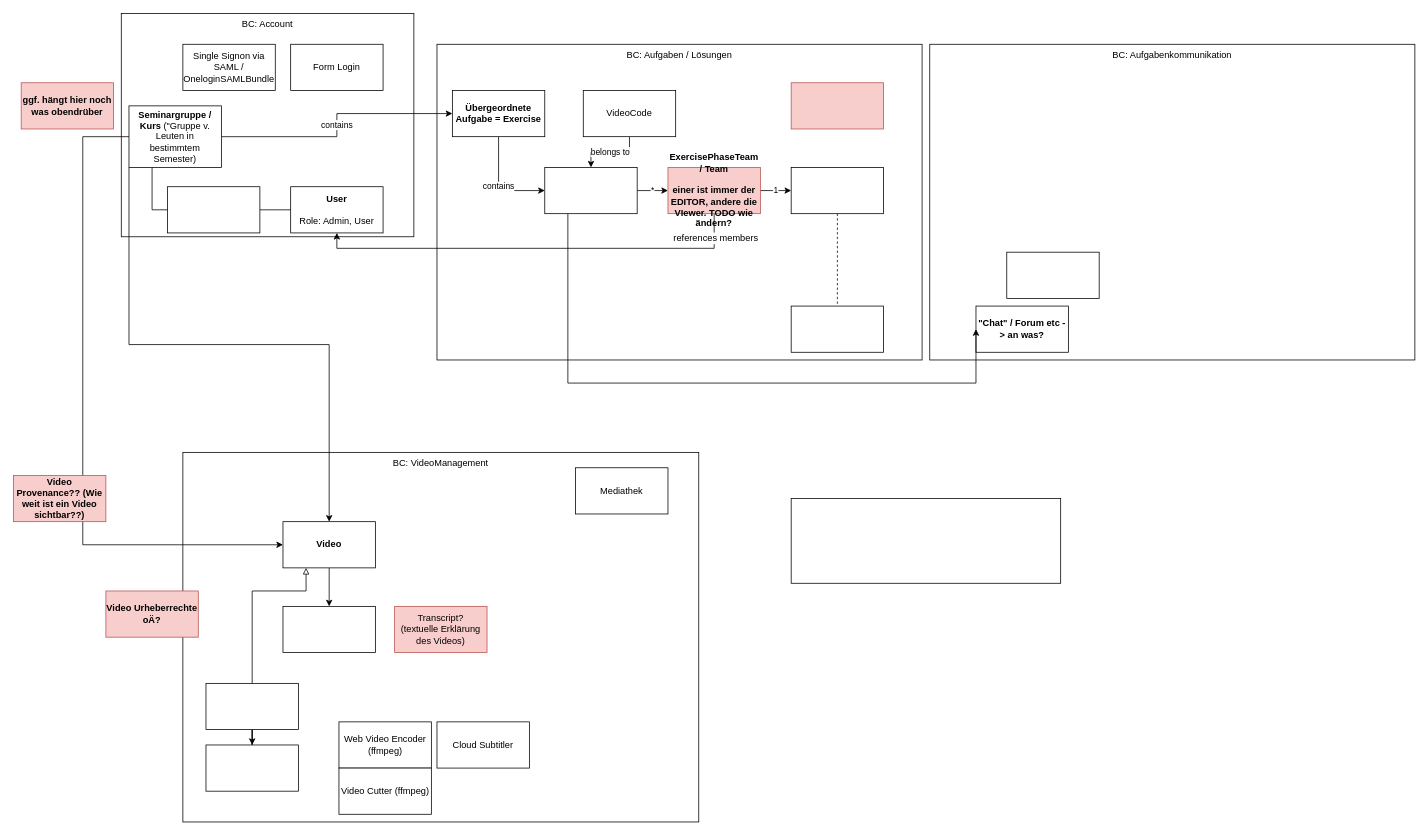
Some shapes in this 1428 by 835 pixel diagram are drawn without their labels. The shapes that lost their labels are listed below. From the top down, each one's centre as x and y in pixels, then its label:
(x=837, y=105): AutosavedSolution??
(x=213, y=209): CourseRole: Student / Dozent
(x=590, y=190): Arbeitsphase / ExercisePhase (Aufgabenbeschreibung)
(x=837, y=190): Solution (Lösung der Gruppe)
(x=1052, y=274): "Notizen" -> woran?
(x=837, y=328): Collaboration Service (real time syncing of solution)
(x=925, y=540): BC: Event Log persist all events which have happened
(x=328, y=629): Subtitles
(x=251, y=706): EditedVideo
(x=251, y=767): CutList (immutable)
